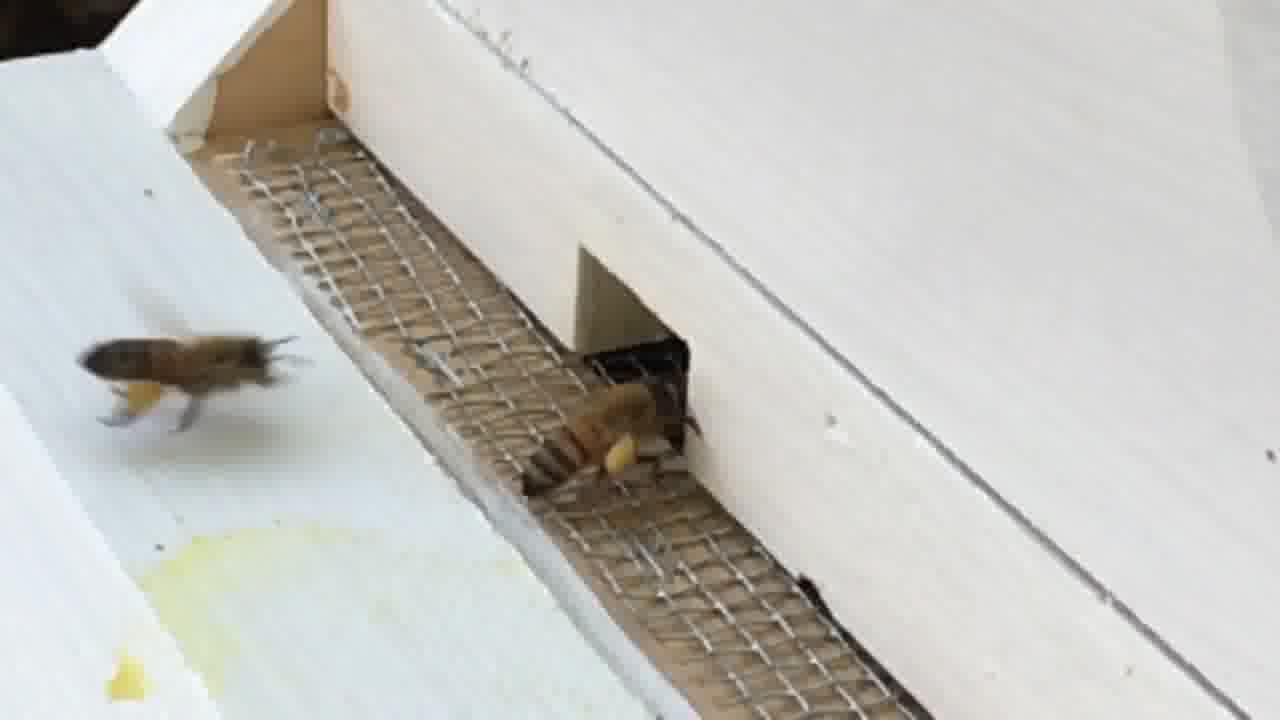pollen: (79, 323, 296, 445), (525, 369, 687, 506)
